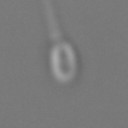abnormal: (36, 1, 68, 41)
